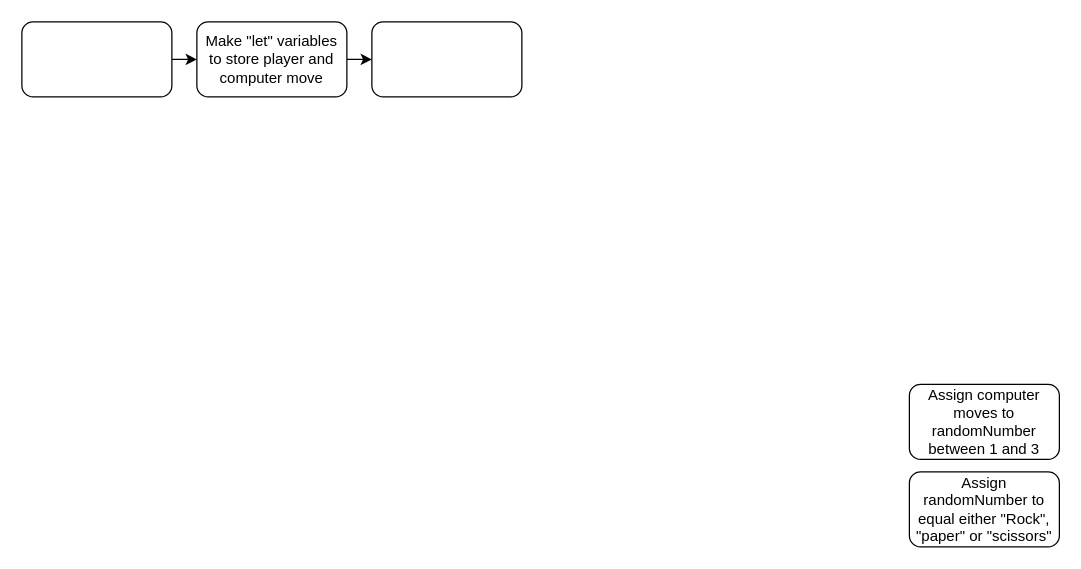
Some shapes in this 1081 by 569 pixel diagram are drawn without their labels. Here are the shapes that lost their labels. From the top down, the centre of each, then its label:
At (96,59): "MVP 1".
At (446,59): "Test moves can be seen in console".
